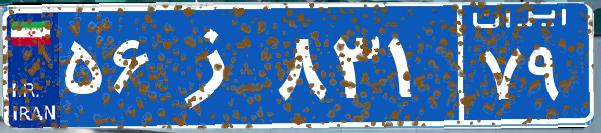1: (385, 28, 445, 110)
3: (330, 28, 385, 110)
5: (57, 26, 110, 107)
6: (110, 28, 158, 105)
7: (475, 38, 525, 113)
8: (273, 28, 330, 110)
9: (525, 38, 570, 115)
ز: (158, 15, 273, 115)
